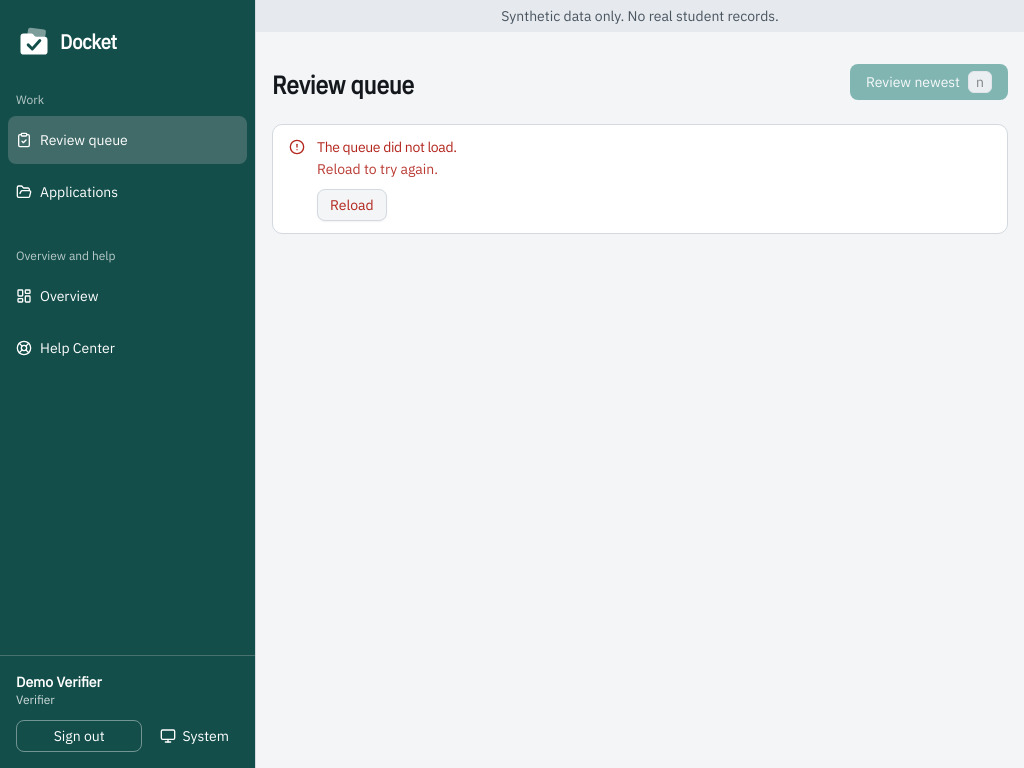
Test: the review queue › explains a failed load and offers to reload
The image size is (1024, 768).
Check: the text "The queue did not load." is shown, box left=317, top=138, right=457, bottom=156
Click the button "Reload" at (352, 205), box left=317, top=189, right=387, bottom=221
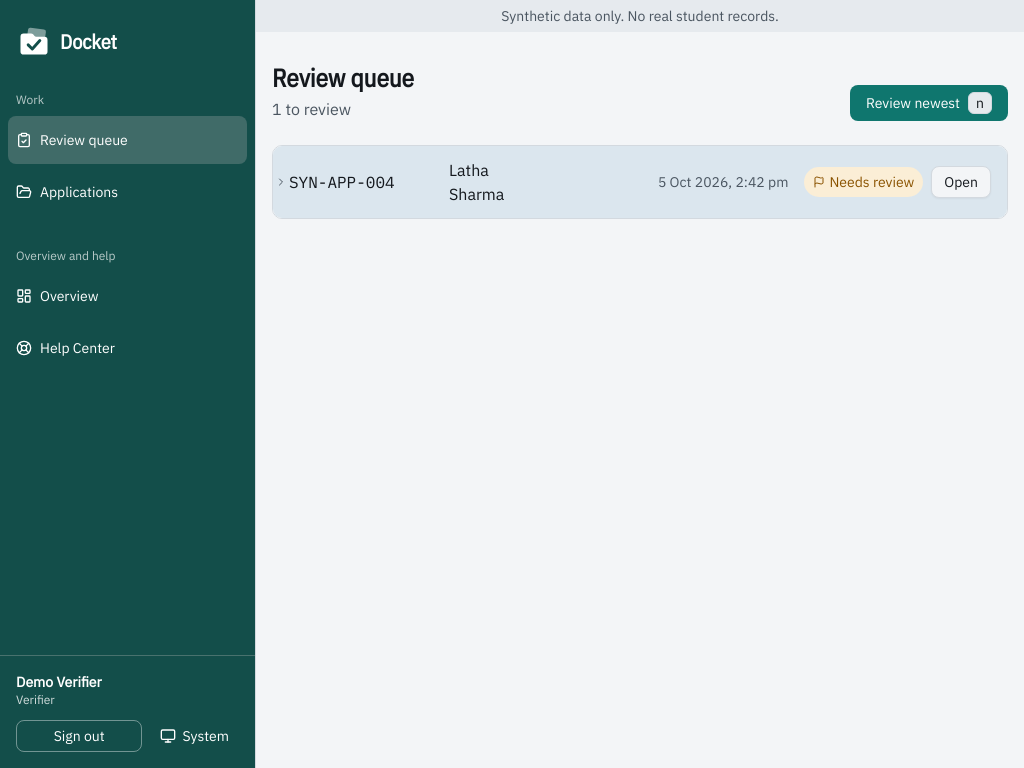
Check: the text "SYN-APP-004" is shown, box left=289, top=172, right=395, bottom=192
